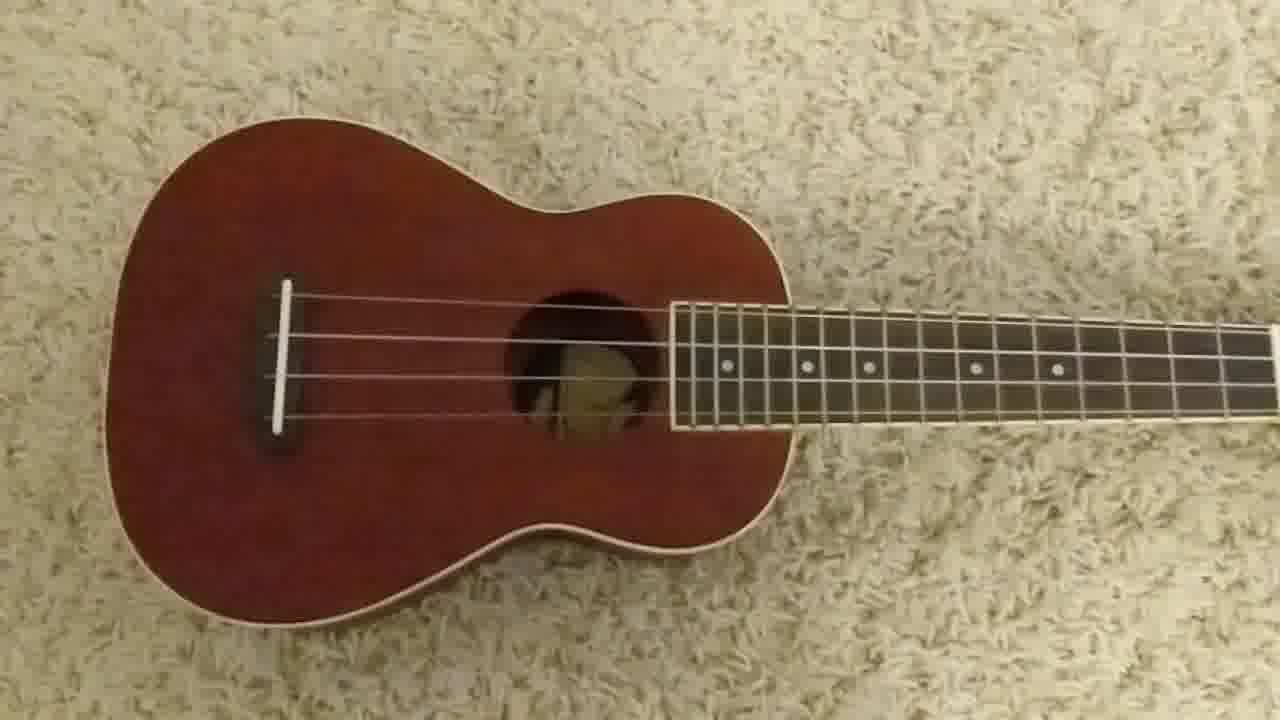Body: (99, 112, 801, 634)
Bridge: (251, 271, 312, 450)
